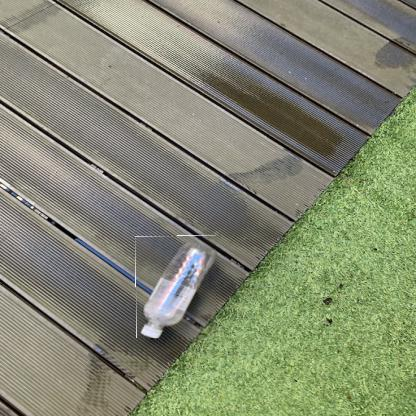plastic-bottles: (137, 237, 218, 340)
